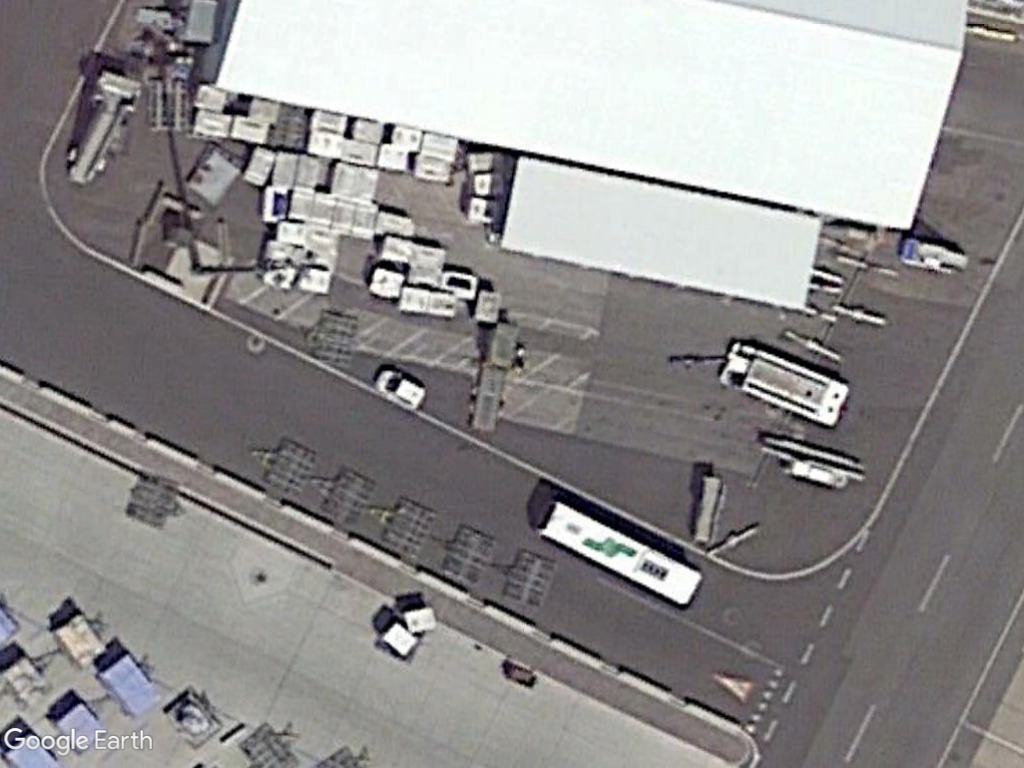bus: (539, 496, 708, 614)
car: (373, 364, 428, 412)
stairtruck: (61, 63, 139, 191)
